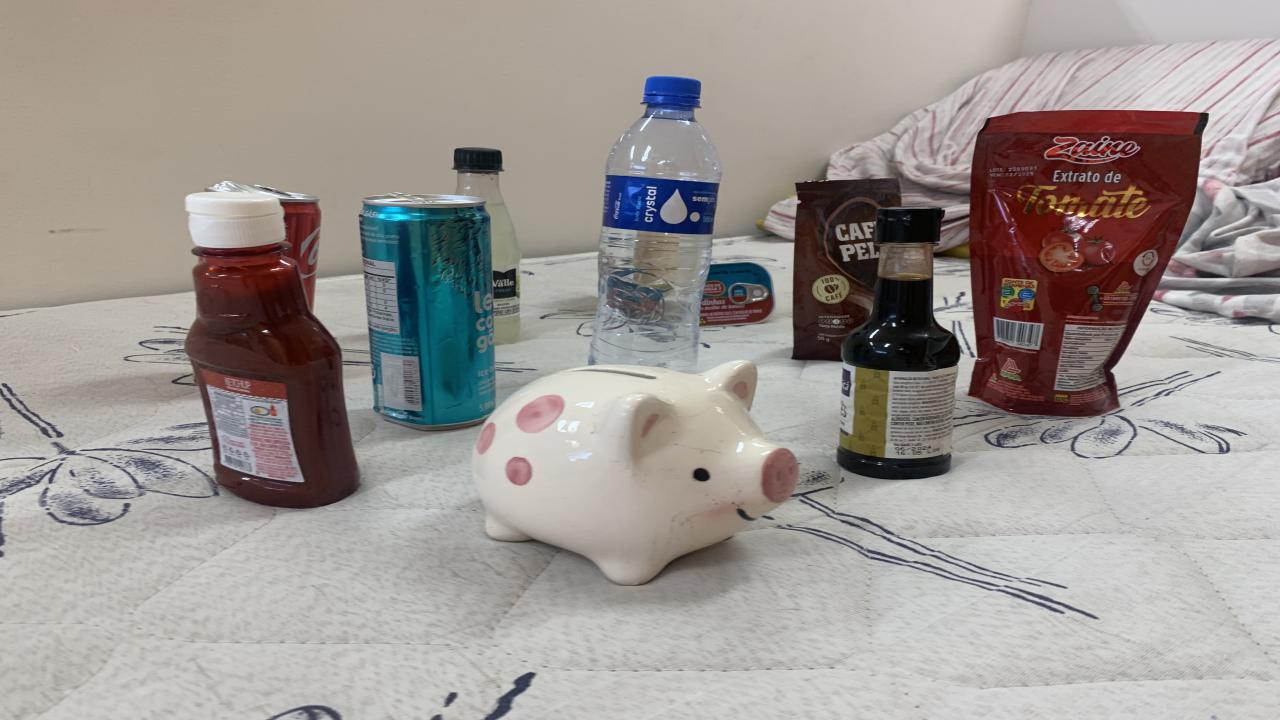Coffee-Pantry_Items: (792, 178, 902, 360)
Coke-Drinks: (205, 180, 322, 309)
English_Sauce-Pantry_Items: (838, 206, 960, 478)
Ketchup-Pantry_Items: (185, 191, 360, 508)
Pig_Safe-Miscellaneous: (472, 360, 798, 585)
Soda-Drinks: (452, 148, 522, 345)
Tea-Drinks: (360, 193, 495, 429)
Tomato_Sauce-Pantry_Items: (970, 111, 1208, 416)
Tuna_Can-Pantry_Items: (700, 262, 775, 326)
Water_Bottle-Drinks: (590, 77, 722, 371)
